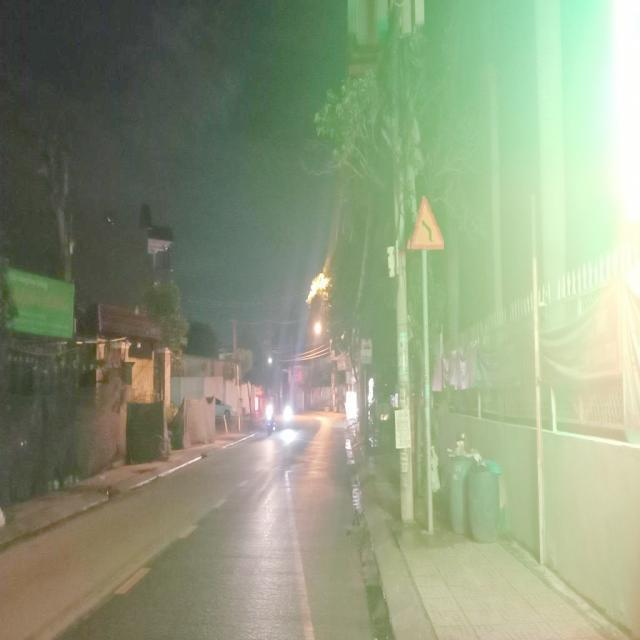201-cho-ngoat-nguy-hiem: (408, 197, 446, 251)
